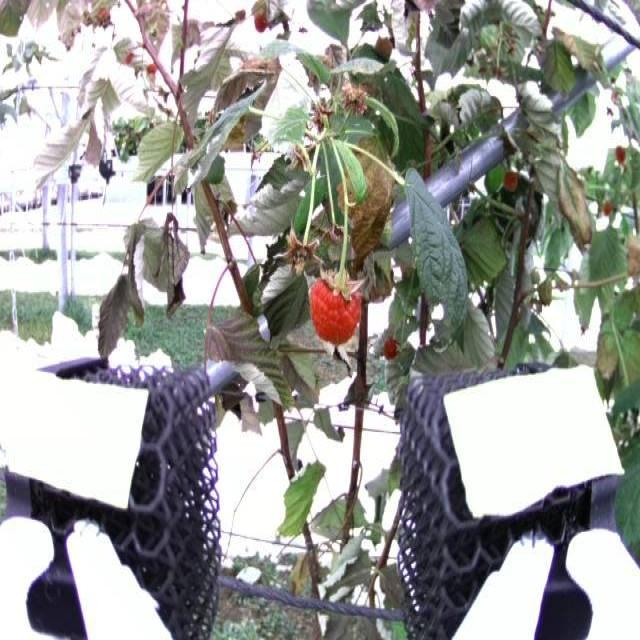Riped berries: (307, 267, 368, 342)
